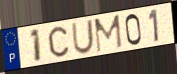0: (124, 12, 143, 47)
1: (29, 27, 44, 64), (147, 8, 160, 44)
C: (47, 25, 71, 59)
M: (93, 13, 124, 54)
U: (71, 18, 95, 56)
